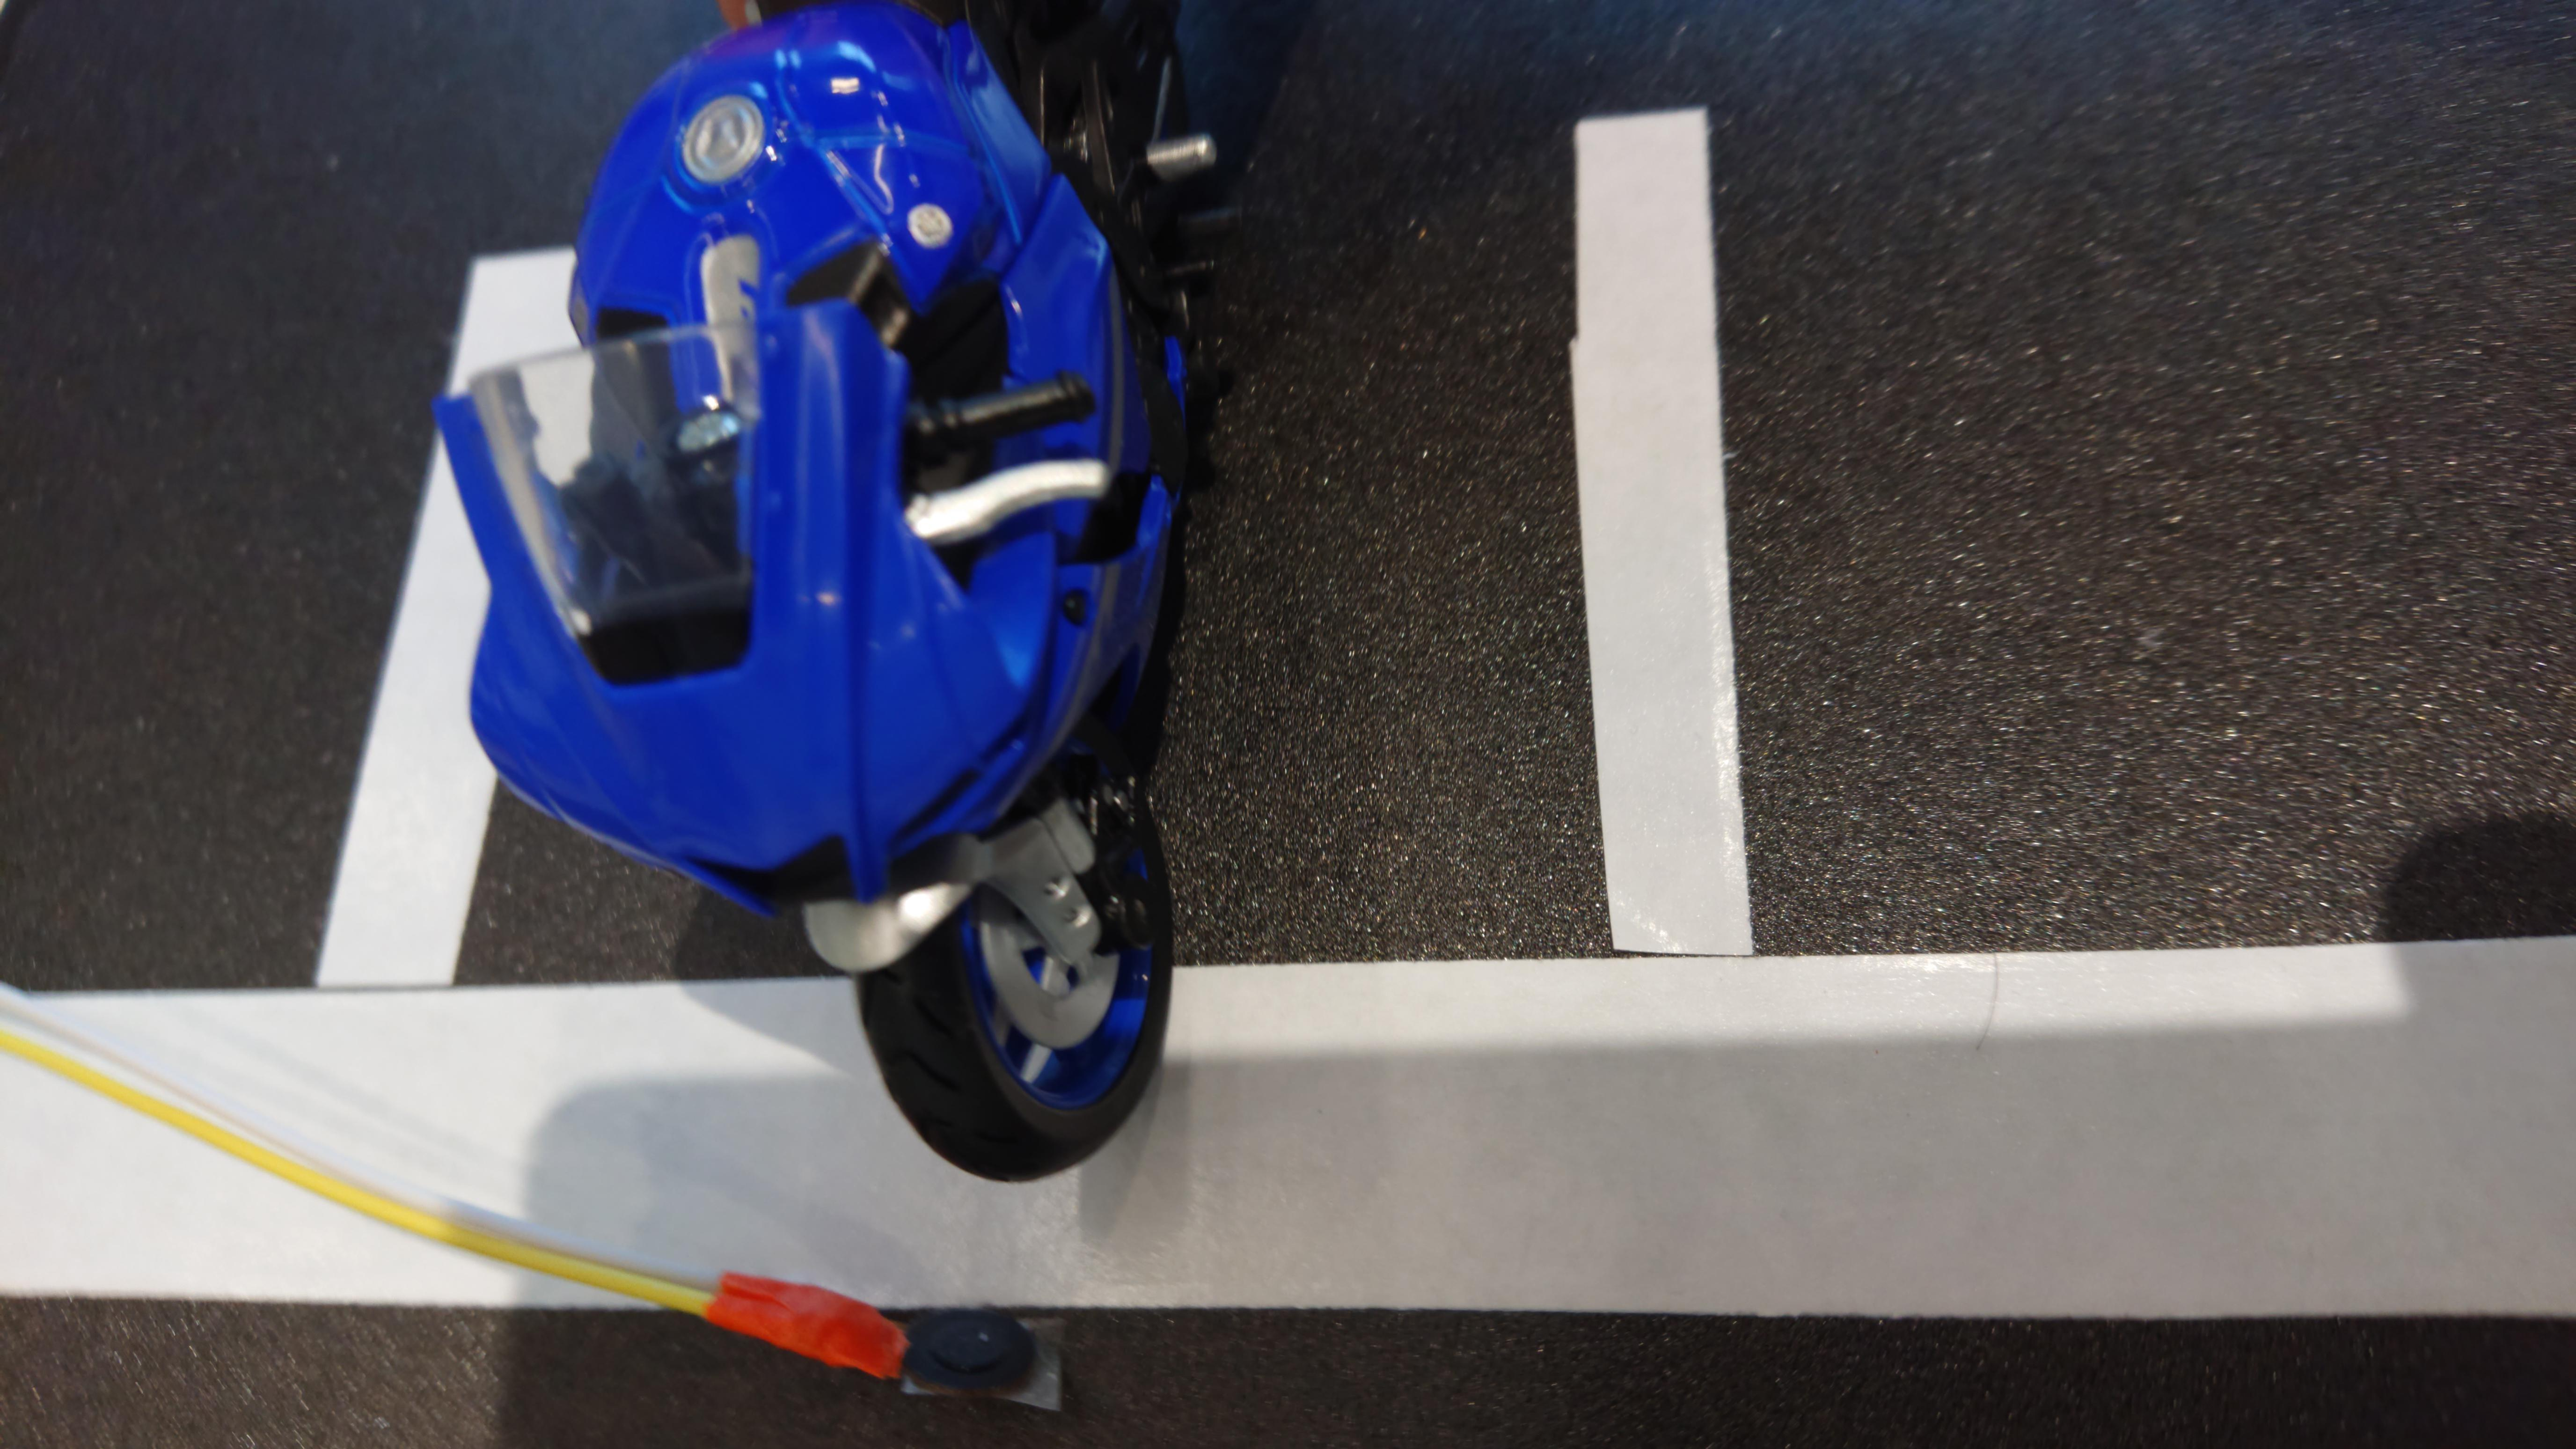Motorcycle: (391, 7, 1355, 1219)
